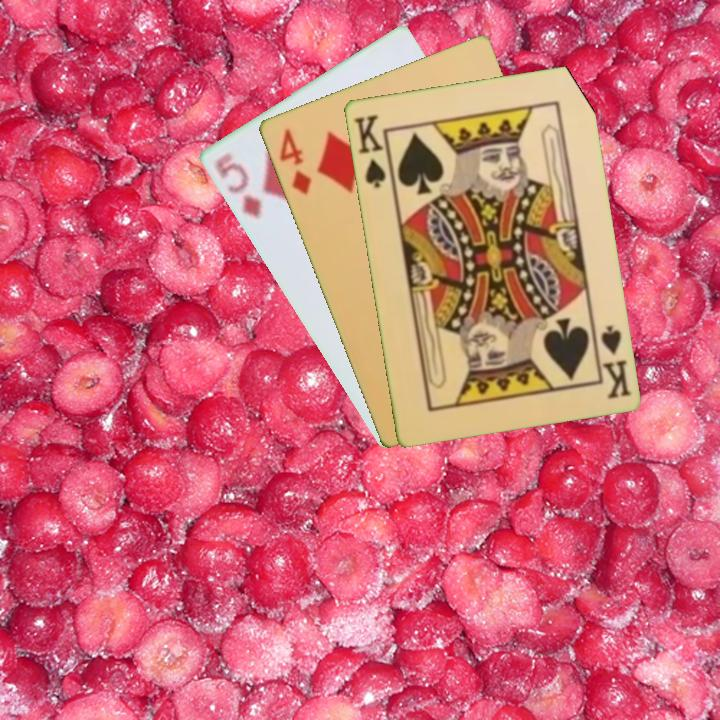4d: (275, 124, 314, 198)
5d: (212, 149, 264, 222)
Ks: (590, 321, 634, 401), (350, 111, 394, 190)
